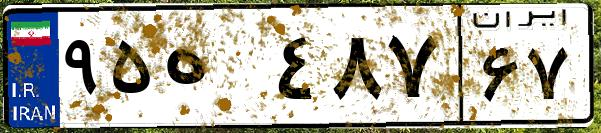4: (270, 28, 330, 110)
5: (110, 28, 158, 98)
6: (475, 38, 525, 113)
7: (385, 28, 445, 110), (525, 38, 570, 115)
8: (330, 28, 385, 110)
9: (57, 26, 110, 100)
ه: (158, 20, 270, 120)
